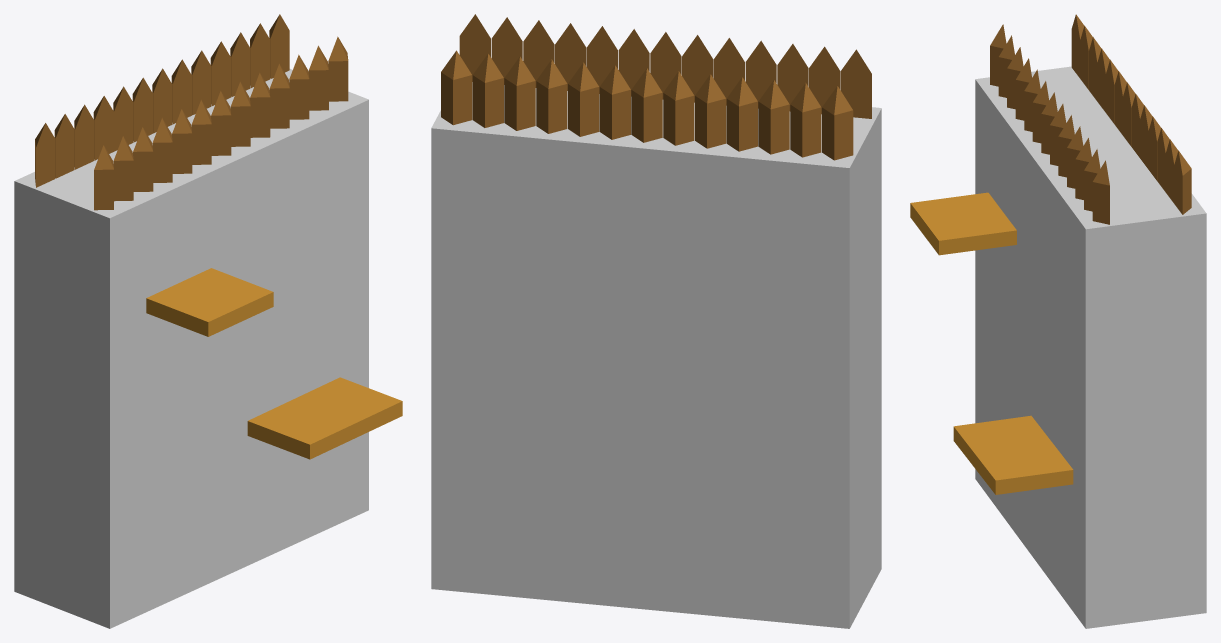
The model's file is STONE WALL 2.fbx.
The picture shows the model from 3 angles, left to right: view 1: azimuth 30°, elevation 25°; view 2: azimuth 150°, elevation 25°; view 3: azimuth 270°, elevation 25°; orthographic projection. The views are drawn at different scales.
Parts seen in each view (by area): view 1: STONE_WALL_2; view 2: STONE_WALL_2; view 3: STONE_WALL_2.
Part boxes in pixels (x1=…): STONE_WALL_2: x1=14, y1=14, x2=402, y2=628; STONE_WALL_2: x1=431, y1=14, x2=881, y2=628; STONE_WALL_2: x1=910, y1=14, x2=1206, y2=628.
Size of the model in its own units: 155 by 200 by 117.
Materials: 1 (1 with a texture image).
